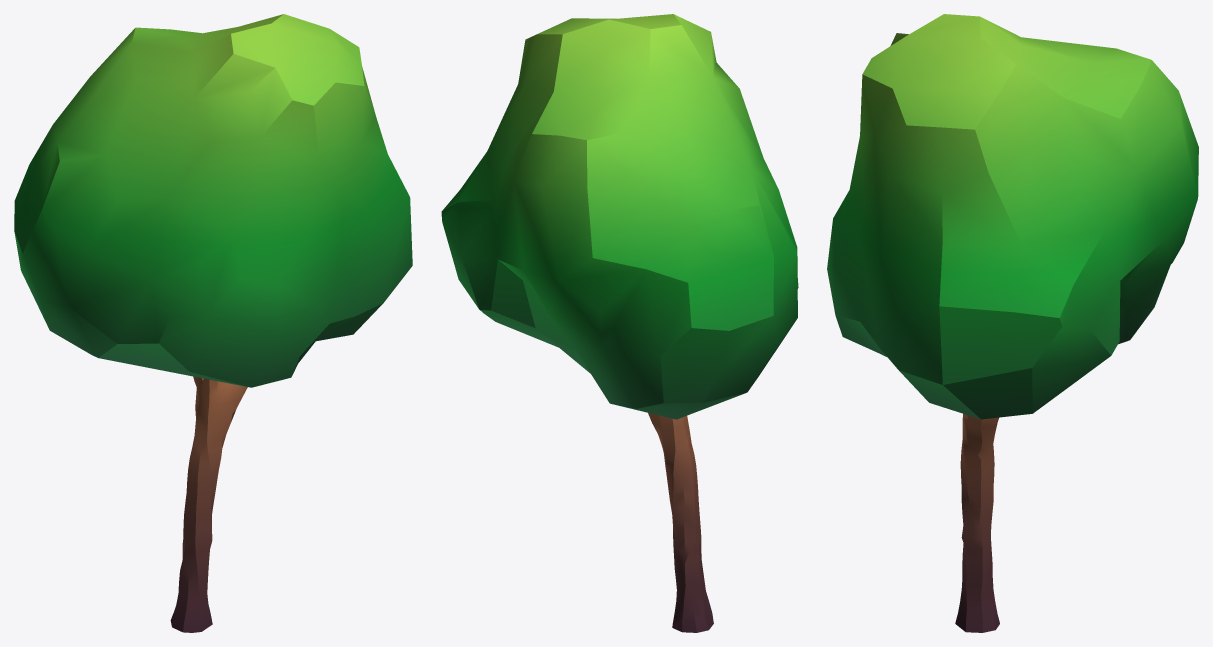
The model's file is Tree3.fbx.
The picture shows the model from 3 angles, left to right: view 1: azimuth 30°, elevation 25°; view 2: azimuth 150°, elevation 25°; view 3: azimuth 270°, elevation 25°; orthographic projection. The views are drawn at different scales.
Visible parts, largest first — view 1: Tree3; view 2: Tree3; view 3: Tree3.
Boxes of the visible parts, <box> form: Tree3: <box>14,14,412,632</box>; Tree3: <box>441,14,798,632</box>; Tree3: <box>827,14,1198,632</box>.
Bounding box in the file's own units: 6.1 × 10.03 × 5.38.
